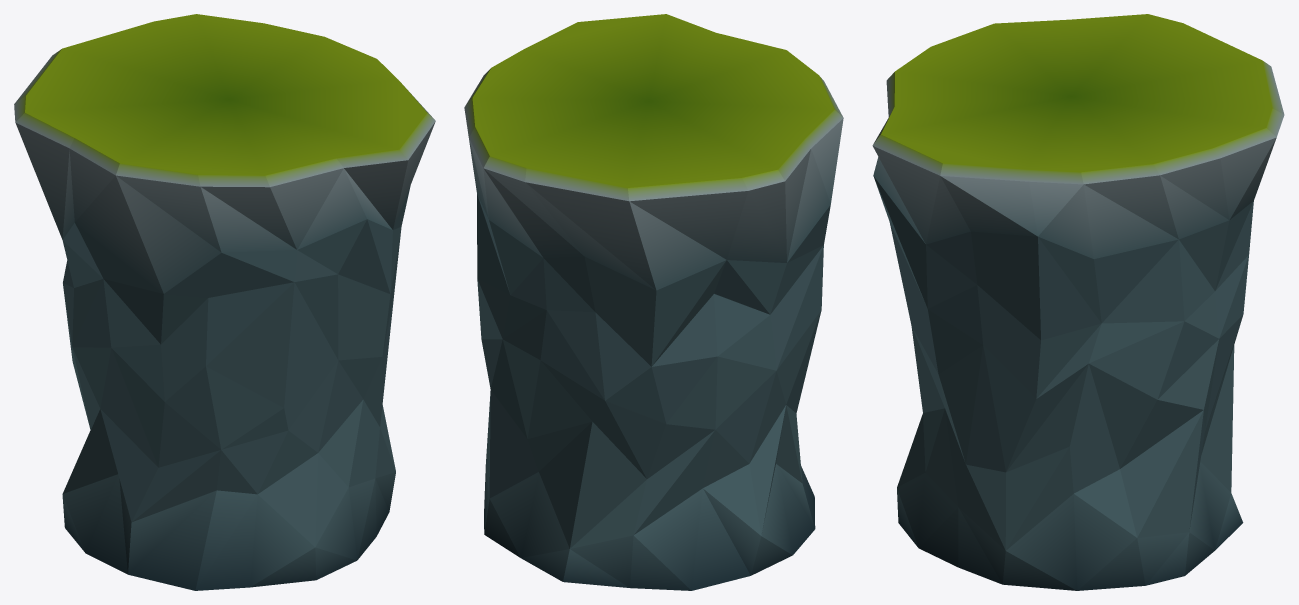
The model's file is Cliff 1.fbx.
3 renders of one model, left to right at view 1: azimuth 30°, elevation 25°; view 2: azimuth 150°, elevation 25°; view 3: azimuth 270°, elevation 25°, orthographic.
Parts seen in each view (by area): view 1: Cliff 3; view 2: Cliff 3; view 3: Cliff 3.
Boxes of the visible parts, x1,y1,x2,y2 form: Cliff 3: [14, 14, 435, 590]; Cliff 3: [464, 14, 843, 590]; Cliff 3: [872, 14, 1284, 590].
Size of the model in its own units: 860 by 986 by 865.
